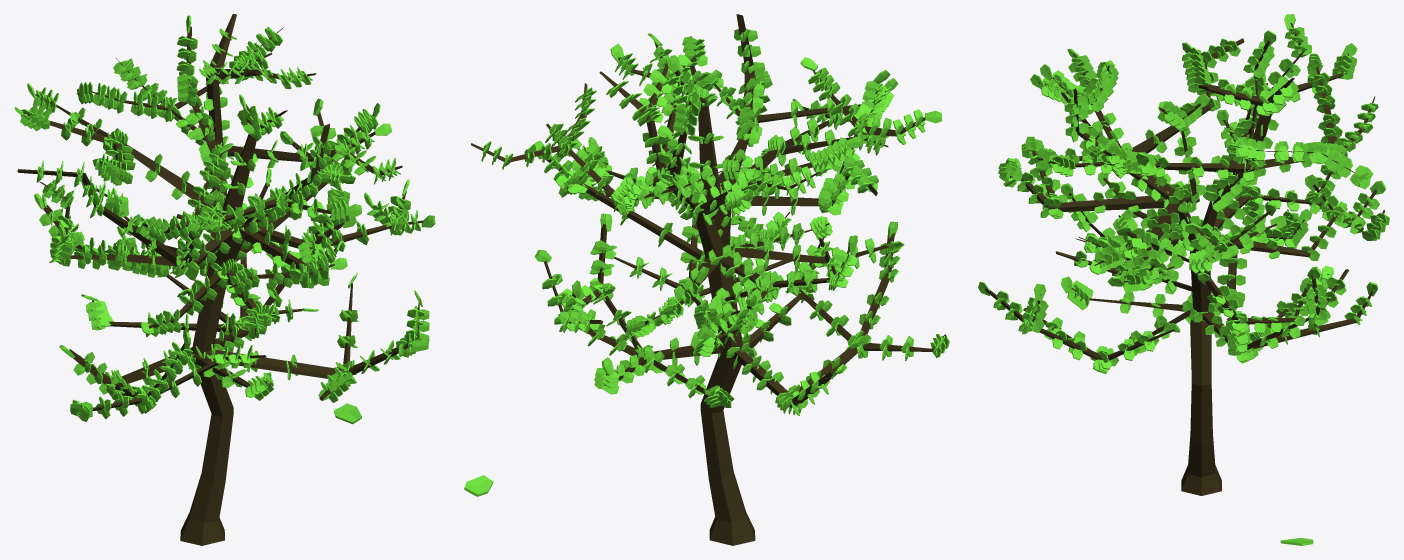
File: tree.gltf
3 renders of one model, left to right at view 1: azimuth 30°, elevation 25°; view 2: azimuth 150°, elevation 25°; view 3: azimuth 270°, elevation 25°, orthographic. The views are drawn at different scales.
Visible parts, largest first — view 1: Tree.002, Tree.001; view 2: Tree.002, Tree.001; view 3: Tree.002, Tree.001.
Part boxes in pixels (box(x1,y1,x2,y2)): Tree.002: box(17, 14, 423, 410); Tree.001: box(123, 14, 402, 545); Tree.002: box(471, 14, 944, 407); Tree.001: box(471, 14, 946, 545); Tree.002: box(985, 23, 1384, 360); Tree.001: box(1049, 77, 1375, 495).
Bounding box in the file's own units: 20.52 × 25.26 × 20.26.
